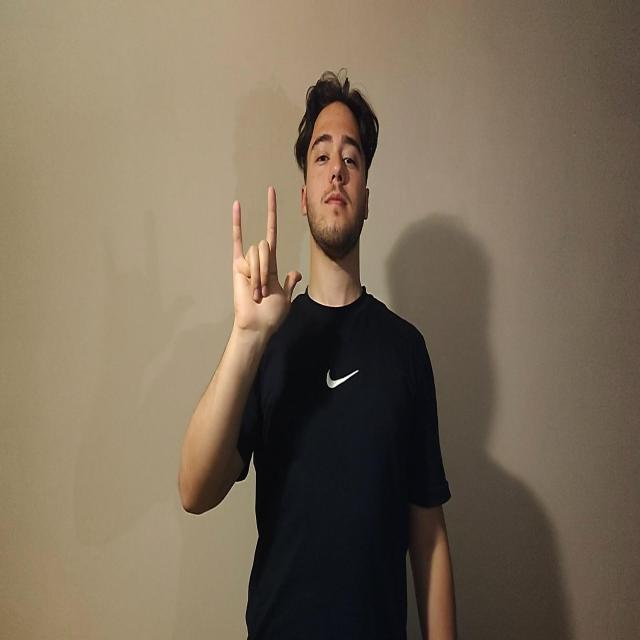iloveyou: (231, 185, 302, 345)
